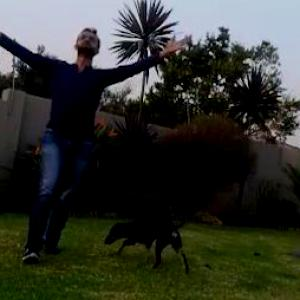takeoff: (0, 28, 172, 248)
